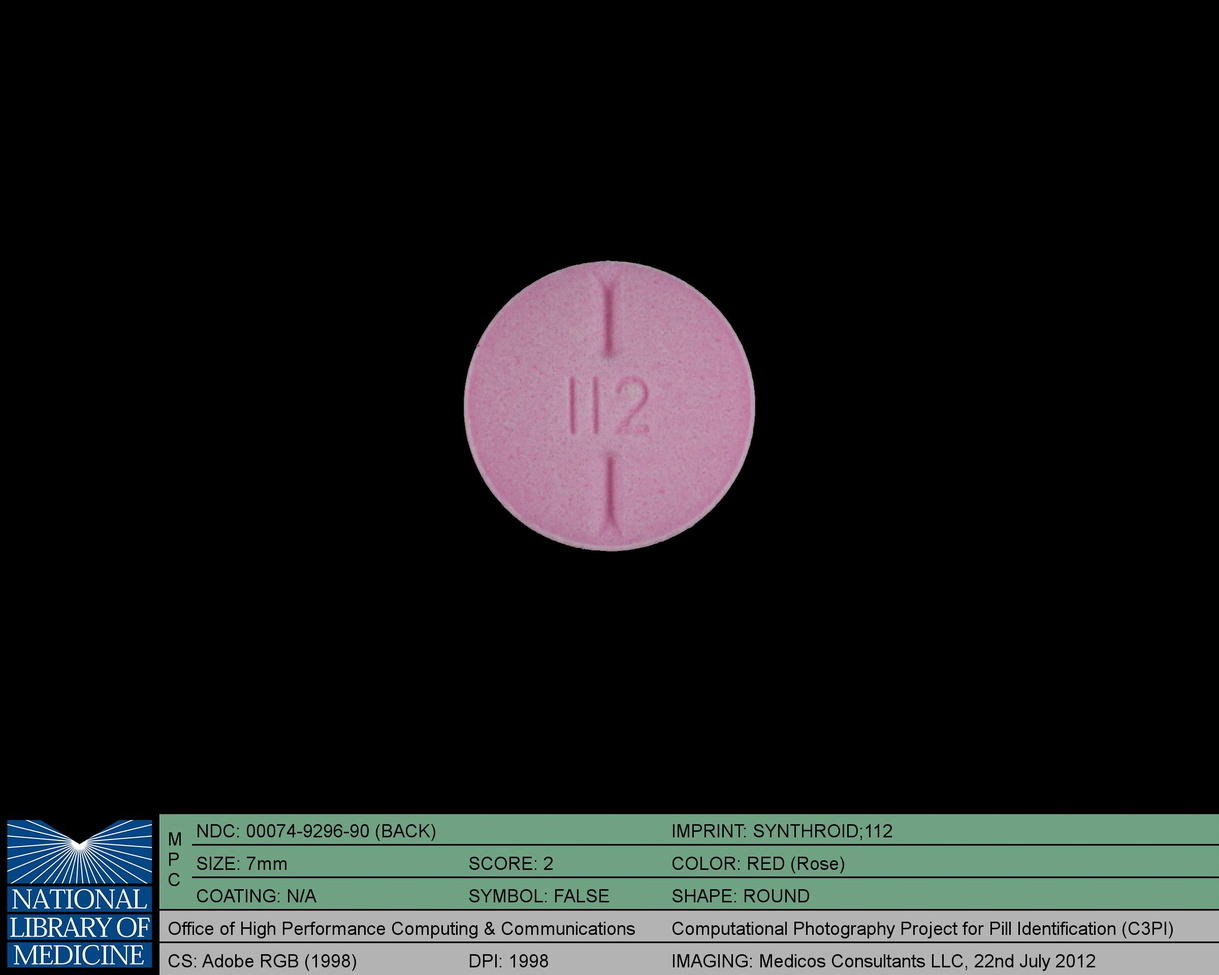Pill: (454, 249, 770, 564)
